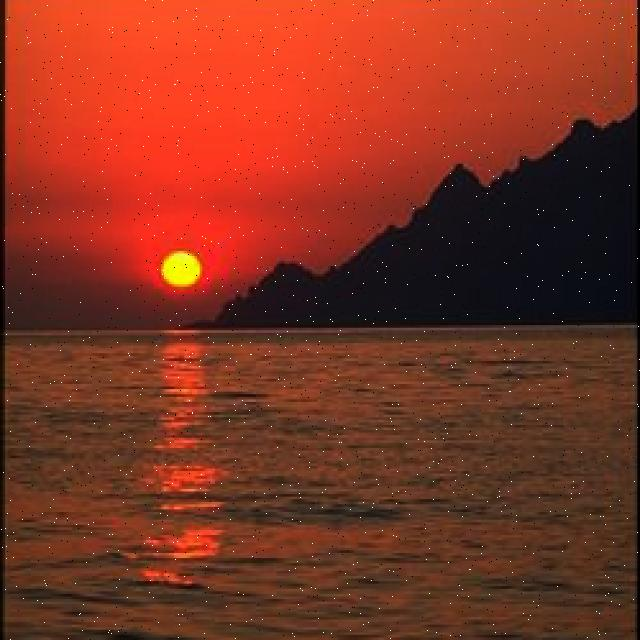light: (154, 244, 207, 297)
